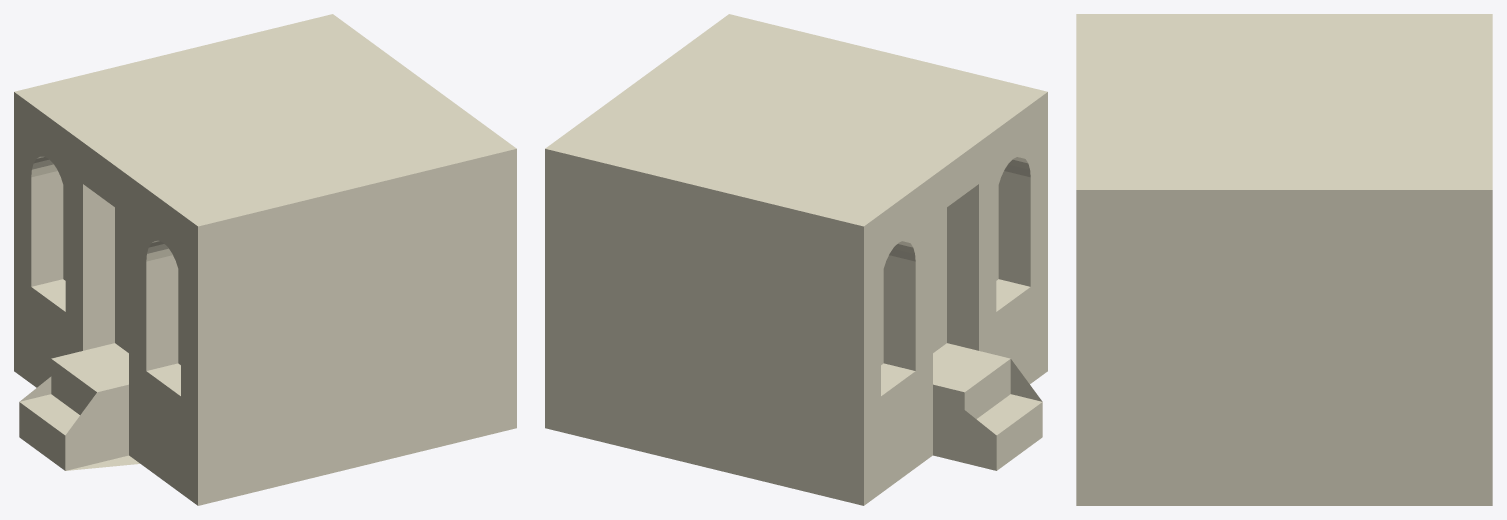
Rendered from modularbuildings_025.glb.
3 renders of one model, left to right at view 1: azimuth 30°, elevation 25°; view 2: azimuth 150°, elevation 25°; view 3: azimuth 270°, elevation 25°, orthographic. The views are drawn at different scales.
Visible parts, largest first — view 1: Mesh1 Group1 Model; view 2: Mesh1 Group1 Model; view 3: Mesh1 Group1 Model.
Part boxes in pixels (x1,y1,x2,y2): Mesh1 Group1 Model: (14,14,516,505); Mesh1 Group1 Model: (545,14,1047,505); Mesh1 Group1 Model: (1076,14,1492,505).
Bounding box in the file's own units: 1.2 × 0.8375 × 1.
